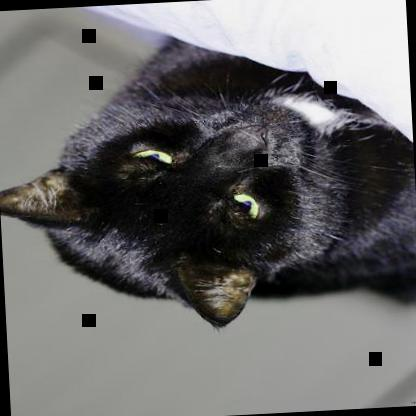cat: (0, 21, 415, 340)
